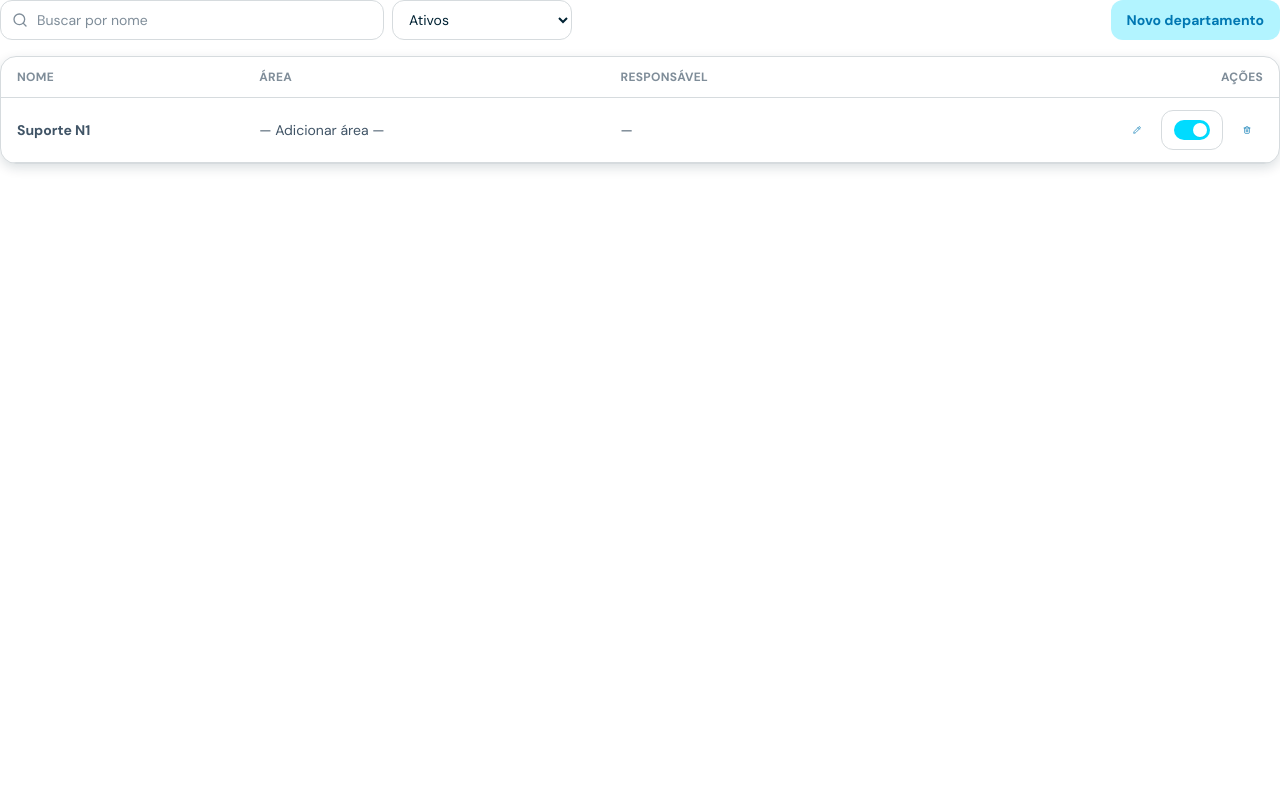
Scenario: DepartamentosAdminPage › opens the create dialog
The width and height of the screenshot is (1280, 800).
Click the button "Novo departamento".
click(1195, 20)  # box x1=1110 y1=0 x2=1279 y2=40
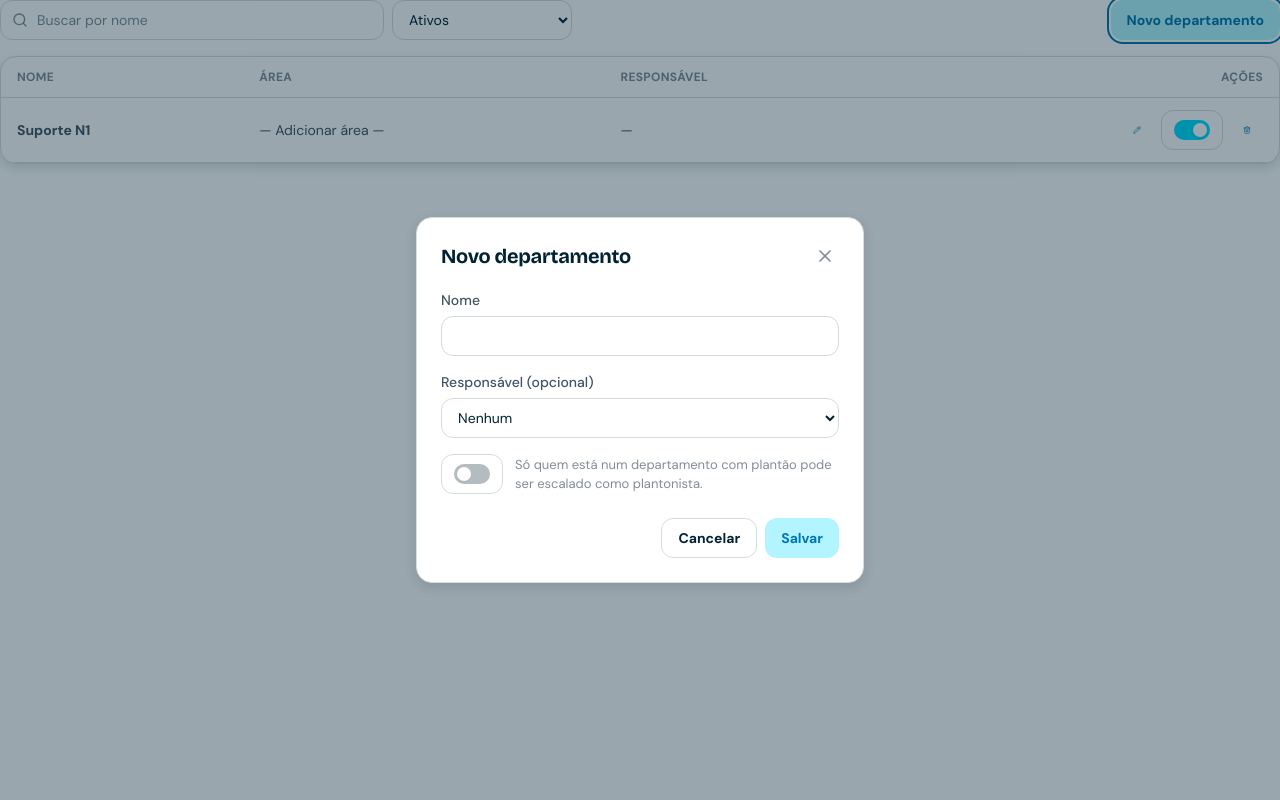
expect the dialog "Novo departamento" is shown: met, box x1=416 y1=217 x2=864 y2=583
